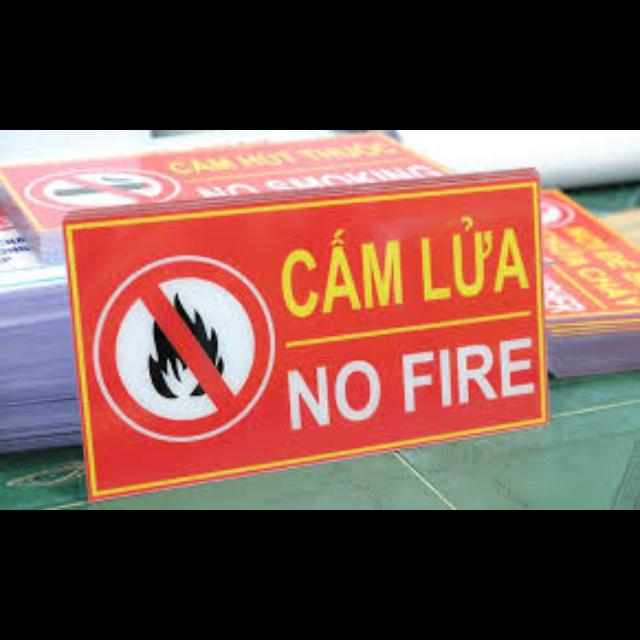cam lua: (55, 163, 548, 499)
